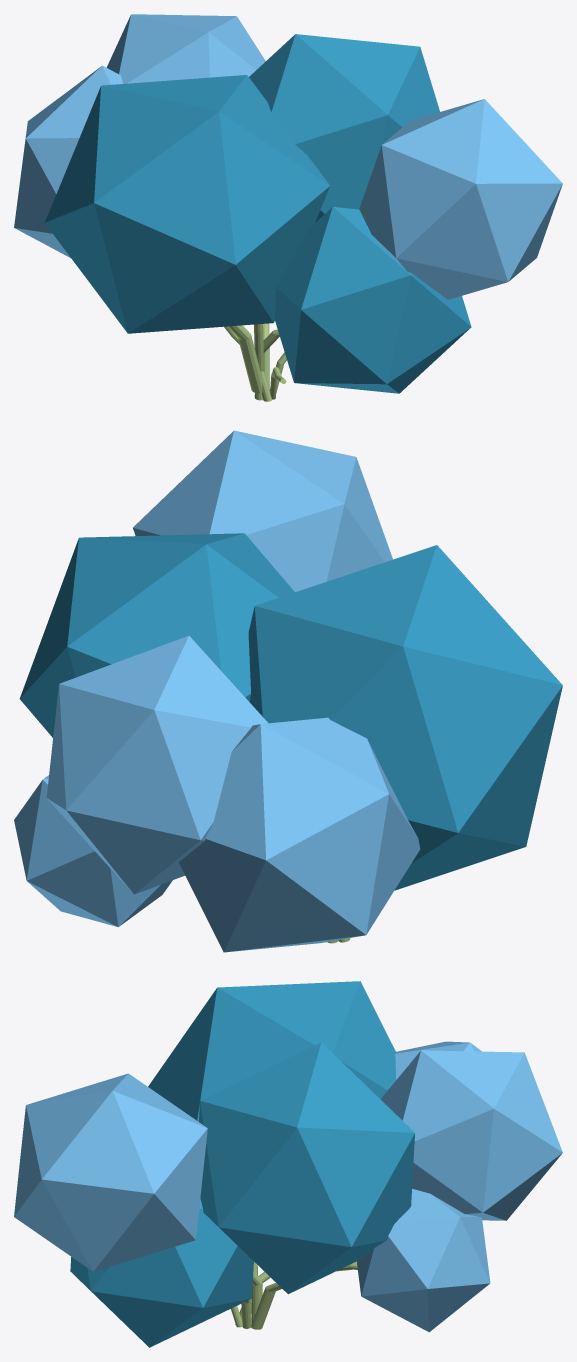
Rendered from tree3.fbx.
3 views of the same model, one above another, from view 1: azimuth 30°, elevation 25°; view 2: azimuth 150°, elevation 25°; view 3: azimuth 270°, elevation 25° (orthographic). The views are drawn at different scales.
Visible parts, largest first — view 1: pPlatonic11, pPlatonic14, pPlatonic13, pPlatonic10, pPlatonic15, pPlatonic12, Branch4; view 2: pPlatonic11, pPlatonic12, pPlatonic15, pPlatonic10, pPlatonic14, pPlatonic16; view 3: pPlatonic10, pPlatonic14, pPlatonic15, pPlatonic11, pPlatonic13, pPlatonic16, Branch4, pPlatonic12.
Part boxes in pixels (x1,y1,x2,y2): pPlatonic11: (45, 75, 330, 333); pPlatonic14: (359, 99, 562, 299); pPlatonic13: (274, 207, 471, 393); pPlatonic10: (249, 34, 439, 222); pPlatonic15: (106, 14, 265, 83); pPlatonic12: (14, 65, 122, 257); Branch4: (224, 210, 365, 401); pPlatonic11: (248, 545, 562, 890); pPlatonic12: (178, 717, 420, 952); pPlatonic15: (46, 635, 267, 894); pPlatonic10: (19, 533, 294, 737); pPlatonic14: (133, 430, 392, 592); pPlatonic16: (14, 775, 172, 927); pPlatonic10: (199, 1042, 414, 1294); pPlatonic14: (14, 1073, 207, 1271); pPlatonic15: (380, 1050, 562, 1220); pPlatonic11: (148, 981, 396, 1121); pPlatonic13: (70, 1198, 253, 1347); pPlatonic16: (356, 1189, 490, 1332); Branch4: (231, 1262, 357, 1329); pPlatonic12: (395, 1041, 481, 1079).
Size of the model in its own units: 1305 by 1041 by 1635.
